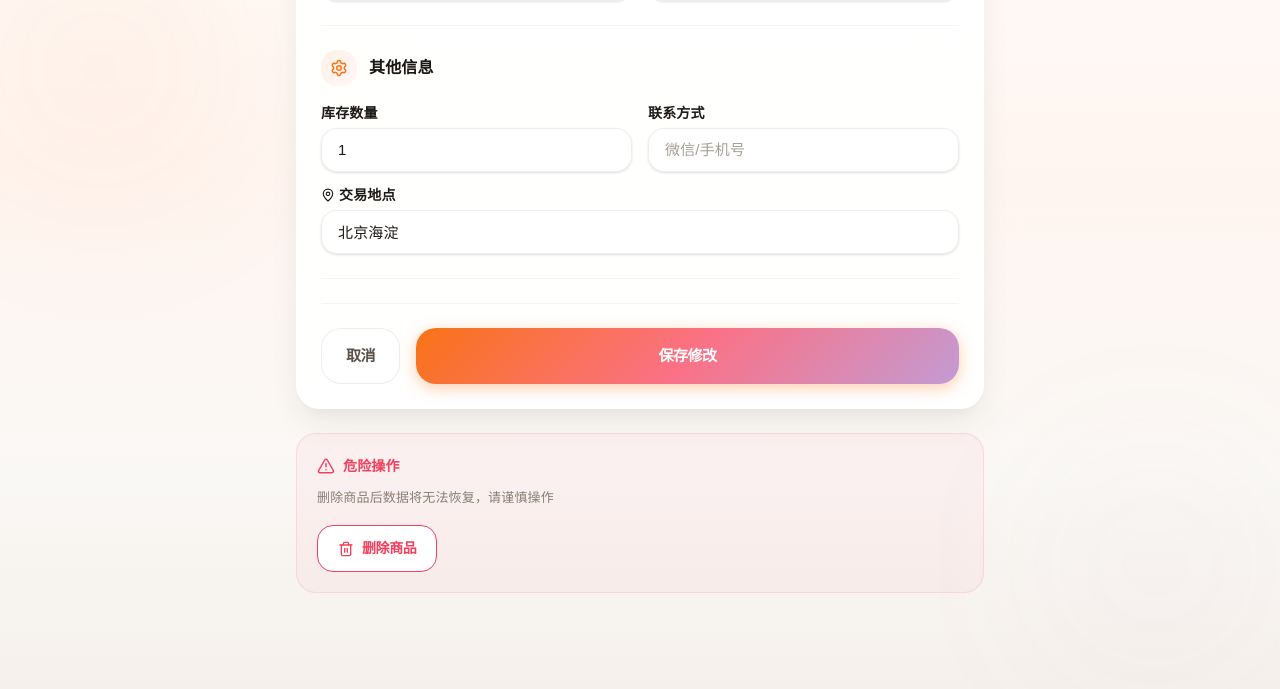
Test: EditProductPage › shows delete confirmation modal when delete button is clicked
(page scrolled)
Click the button "删除商品" at (377, 549), box [317,525,437,572]
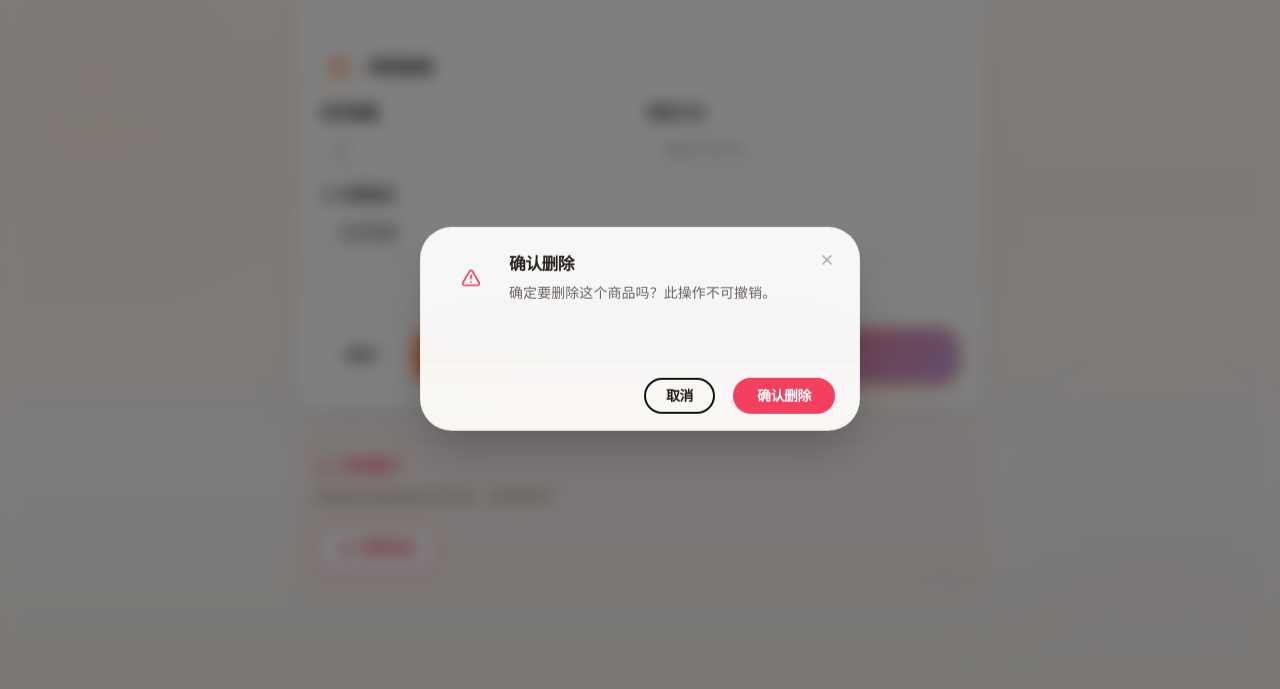
Check: the number of headings "确认删除" is 2, box [509,255,574,274]; [733,378,835,414]
Check: the text "确定要删除这个商品吗？此操作不可撤销。" is shown, box [509,285,776,301]
